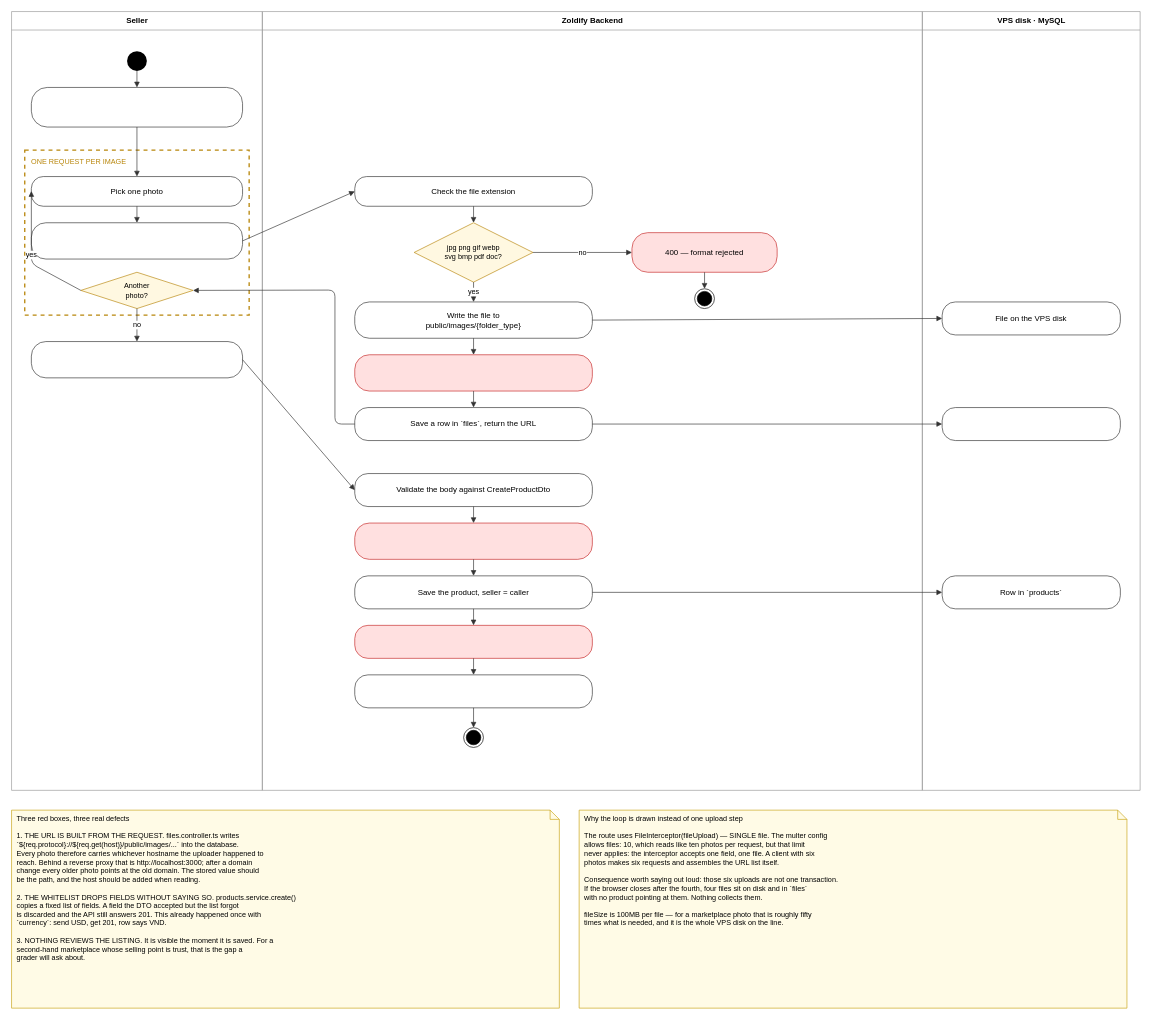
Some shapes in this 1152 by 1020 pixel diagram are drawn without their labels. The shapes that lost their labels are listed below. From the top down, each one's centre as x and y in pixels, then its label:
the point at 137,107: Fill in the listing form: name · price · condition · stock
the point at 137,240: POST /files/upload header folder_type
the point at 137,359: POST /products with the returned URLs
the point at 473,372: Build the URL from the REQUEST host req.protocol + req.get(host)
the point at 1030,424: Row in `files`
the point at 473,540: Copy ONLY whitelisted fields anything else is dropped in silence
the point at 473,641: Listing is public immediately — no review step
the point at 473,691: Notify every follower of this seller
